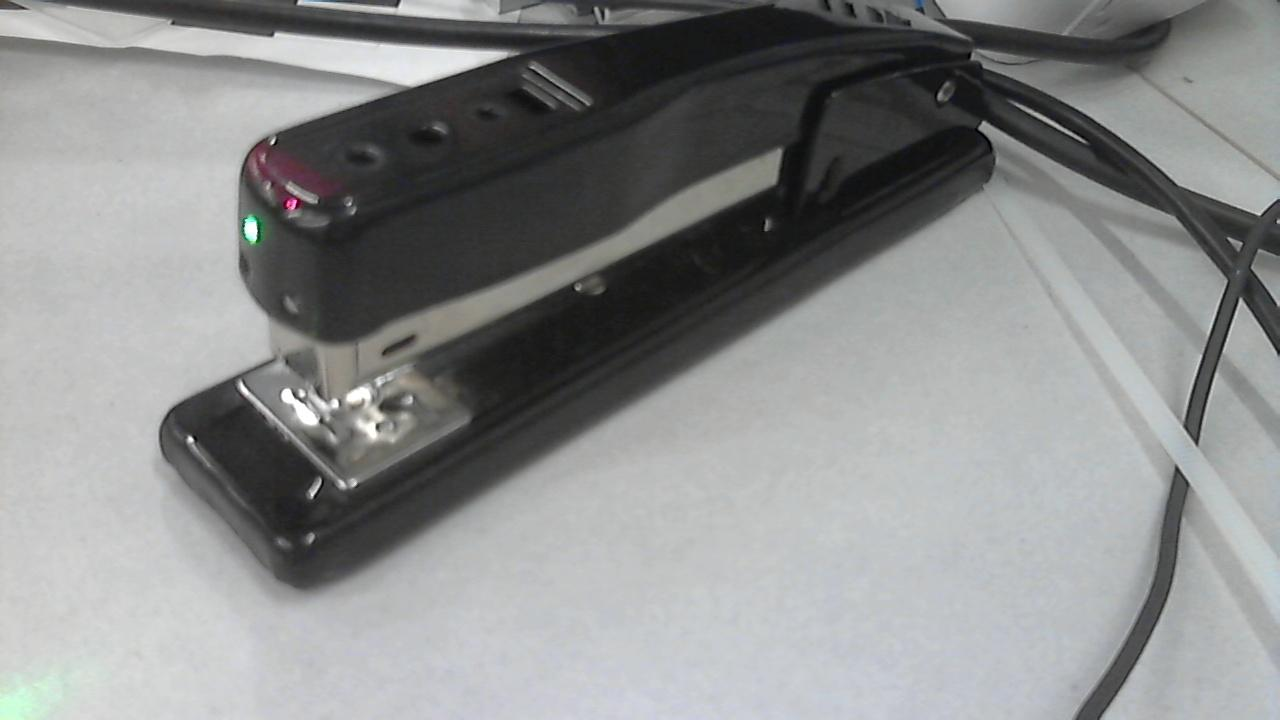object stapler - material metal - color black - Pdfname fduiadew: (220, 141, 363, 256)
